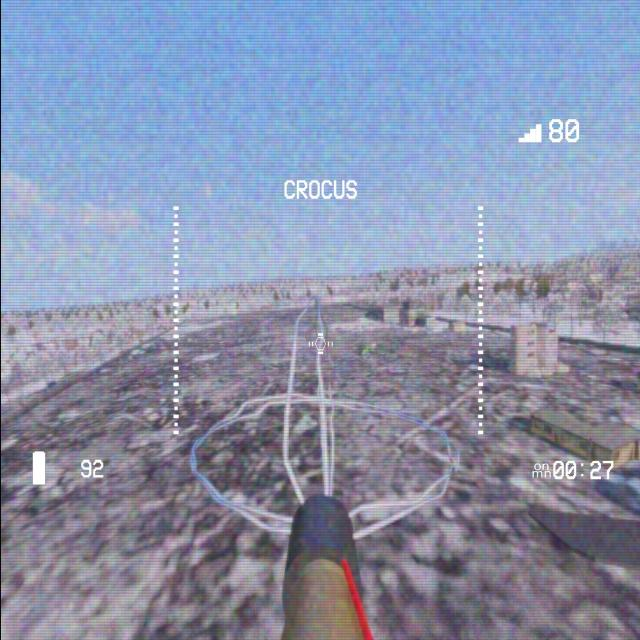fortification: (528, 388, 640, 477), (508, 314, 569, 390), (364, 290, 402, 328), (397, 295, 437, 328), (444, 314, 473, 334)
vehicle: (350, 335, 388, 365)
